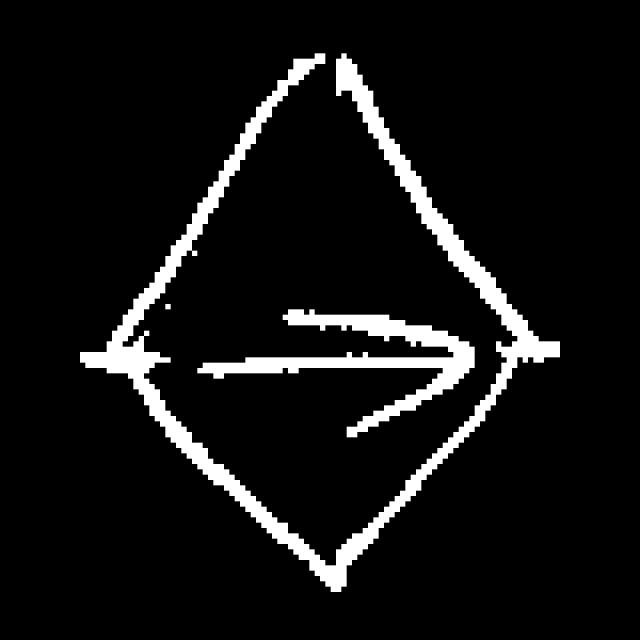dependant_current: (108, 35, 532, 600)
